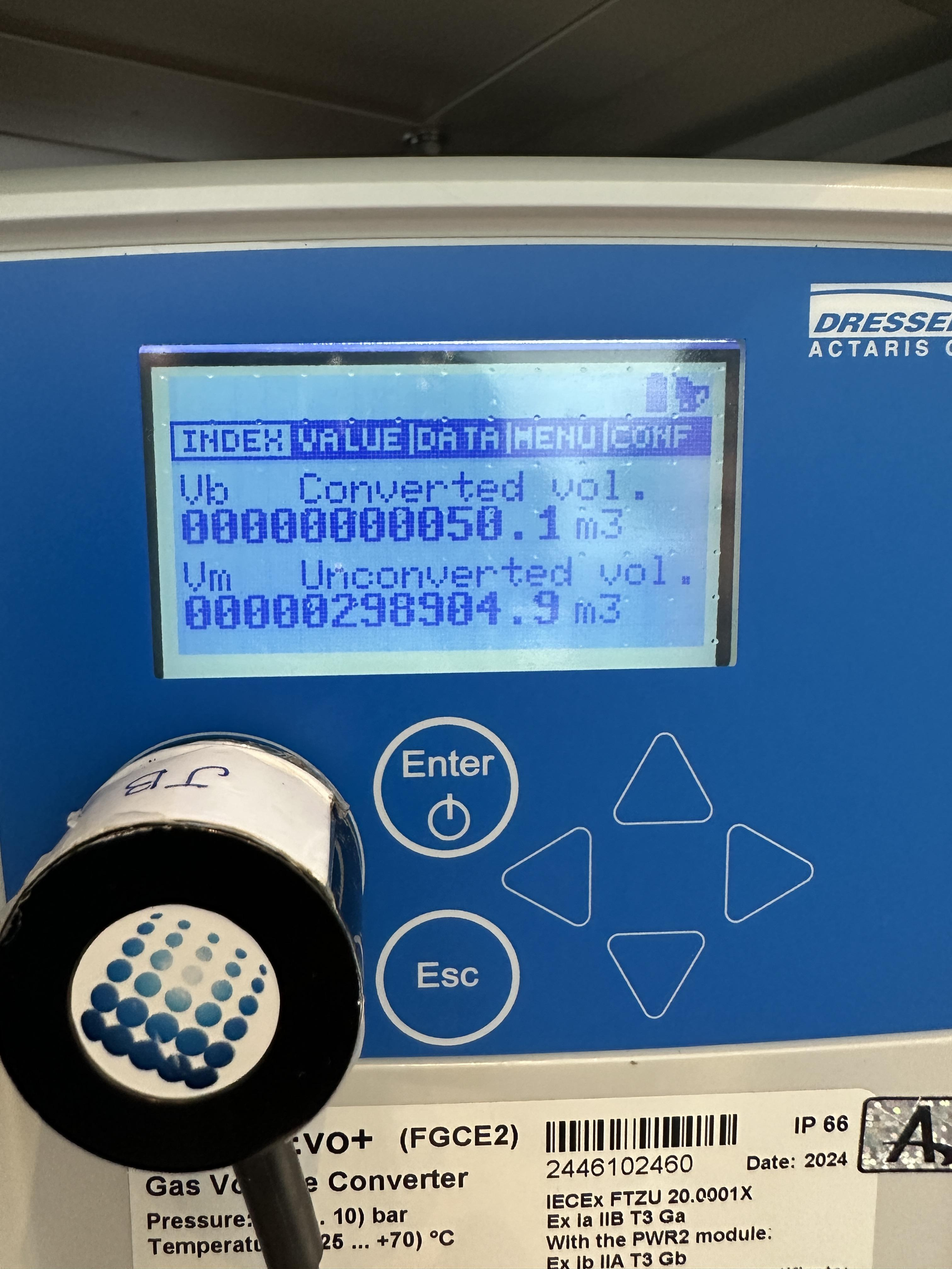digital_screen: (153, 363, 729, 678)
